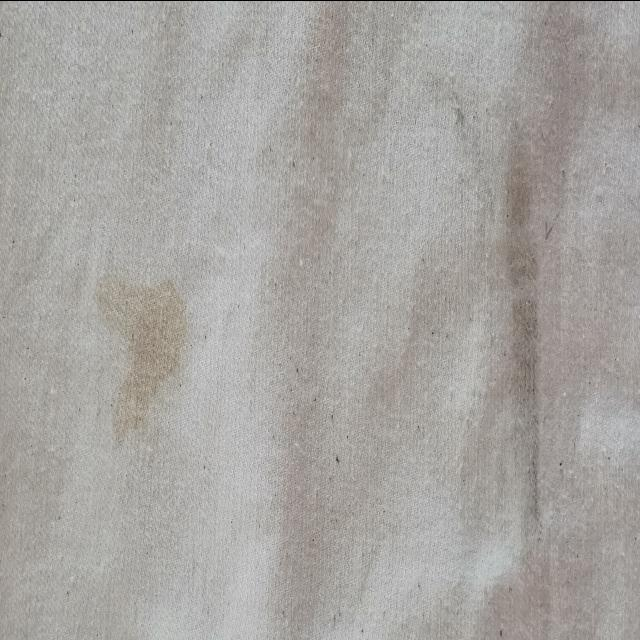taaaches: (492, 116, 552, 544), (87, 252, 201, 462)
